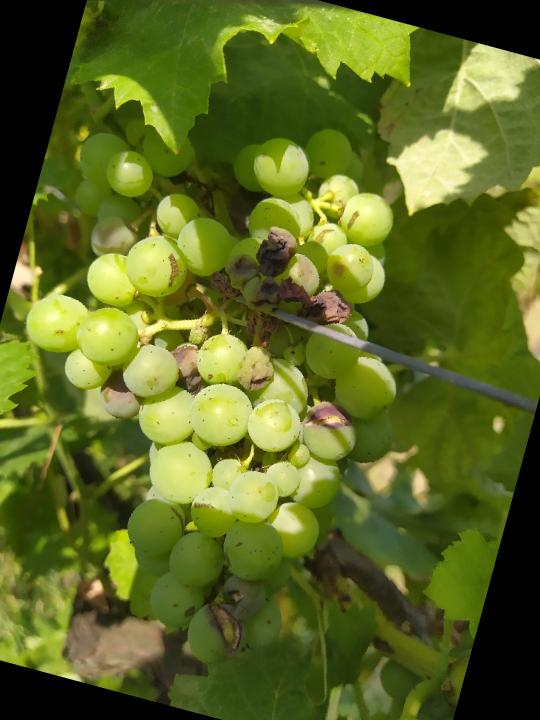grape: (0, 63, 468, 708)
